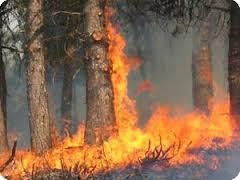fire: (49, 10, 229, 176)
